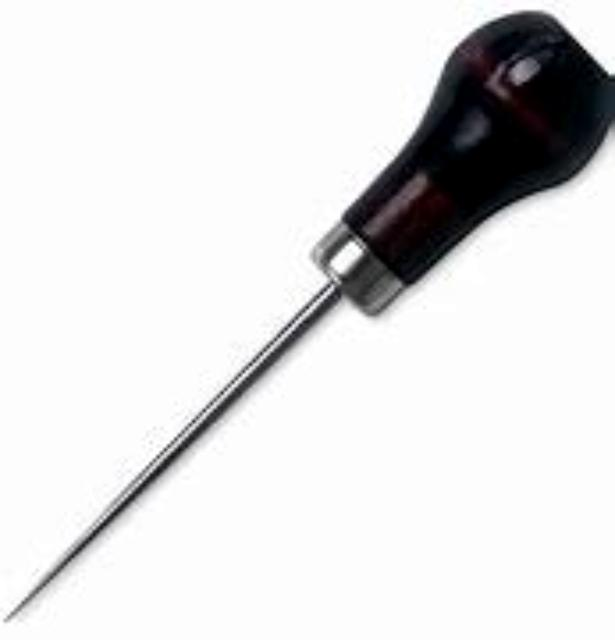ice pick: (8, 14, 608, 622)
